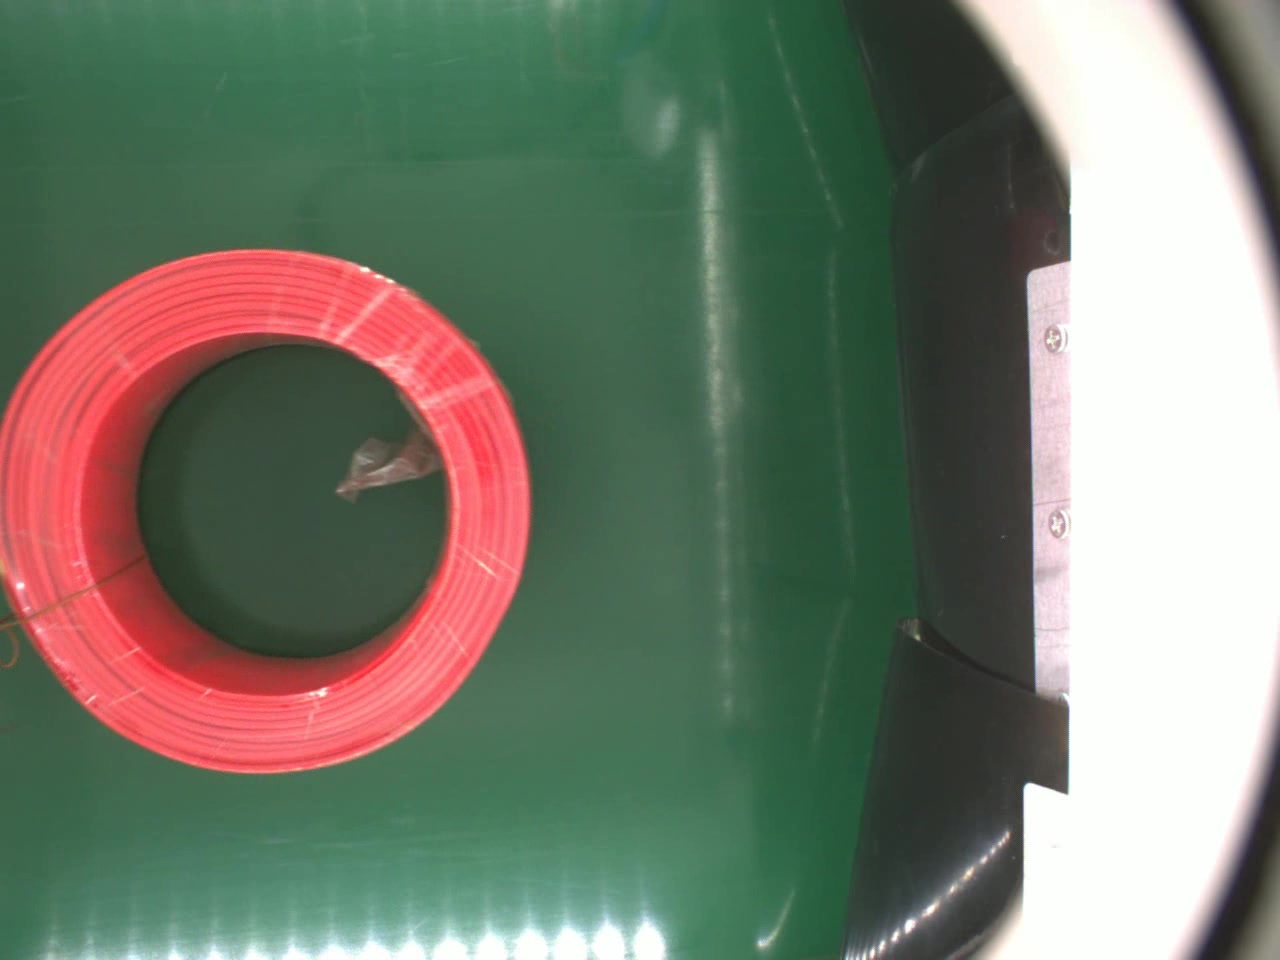red: (0, 237, 535, 774)
